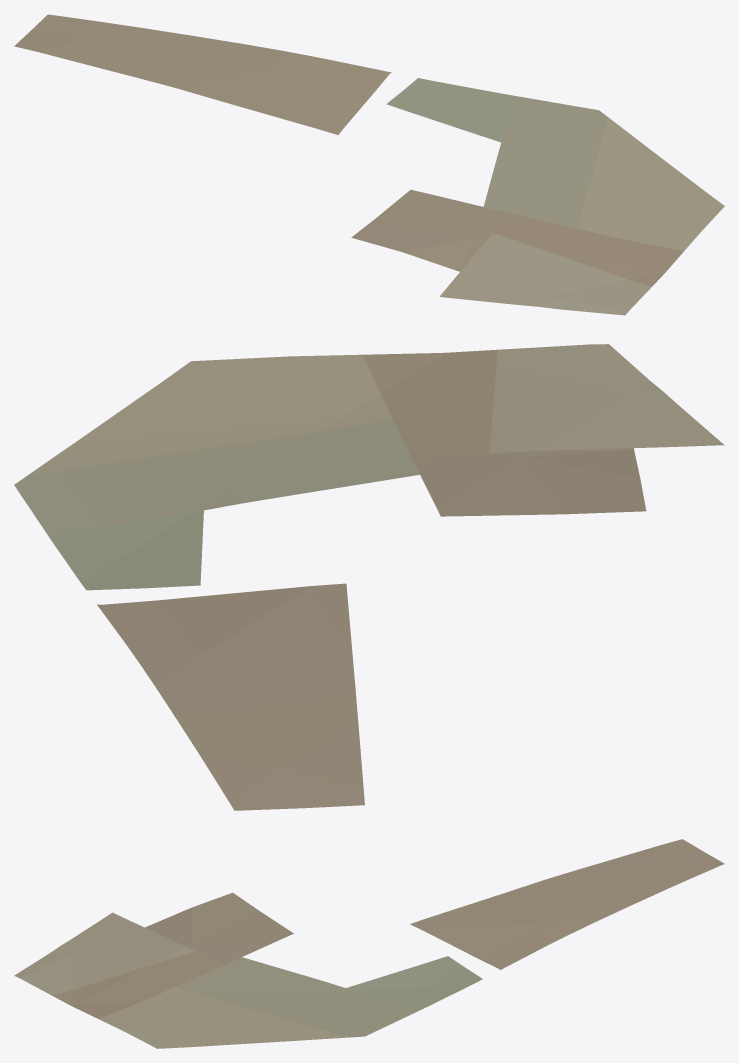
Rendered from farm_26_18_soil.glb.
3 renders of one model, top to bottom at view 1: azimuth 30°, elevation 25°; view 2: azimuth 150°, elevation 25°; view 3: azimuth 270°, elevation 25°, orthographic. The views are drawn at different scales.
Parts seen in each view (by area): view 1: geometry_0; view 2: geometry_0; view 3: geometry_0.
Boxes of the visible parts, box(x1,y1,x2,y2) form: geometry_0: box(14, 14, 724, 315); geometry_0: box(14, 344, 724, 810); geometry_0: box(14, 839, 724, 1048).
Bounding box in the file's own units: 281 × 29.29 × 482.
